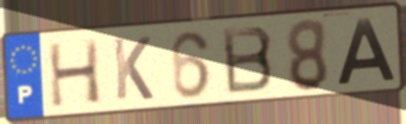6: (169, 28, 212, 101)
8: (283, 16, 331, 94)
A: (334, 16, 398, 88)
B: (219, 24, 277, 97)
H: (46, 37, 105, 110)
K: (110, 34, 156, 102)
